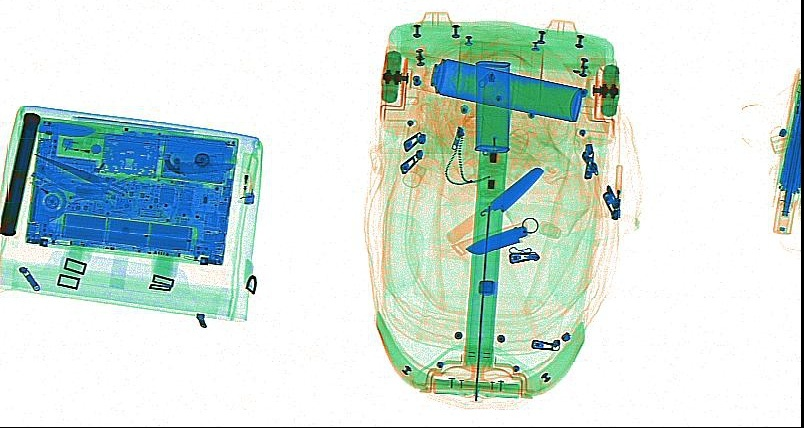knife: (445, 166, 544, 244), (449, 220, 528, 257), (172, 152, 238, 174), (35, 116, 97, 138)
lighter: (236, 150, 259, 205), (27, 171, 65, 201), (61, 136, 105, 157), (613, 164, 623, 209)
pressure: (408, 51, 583, 122)
scissors: (33, 151, 150, 218)
zippooil: (473, 58, 511, 156)
